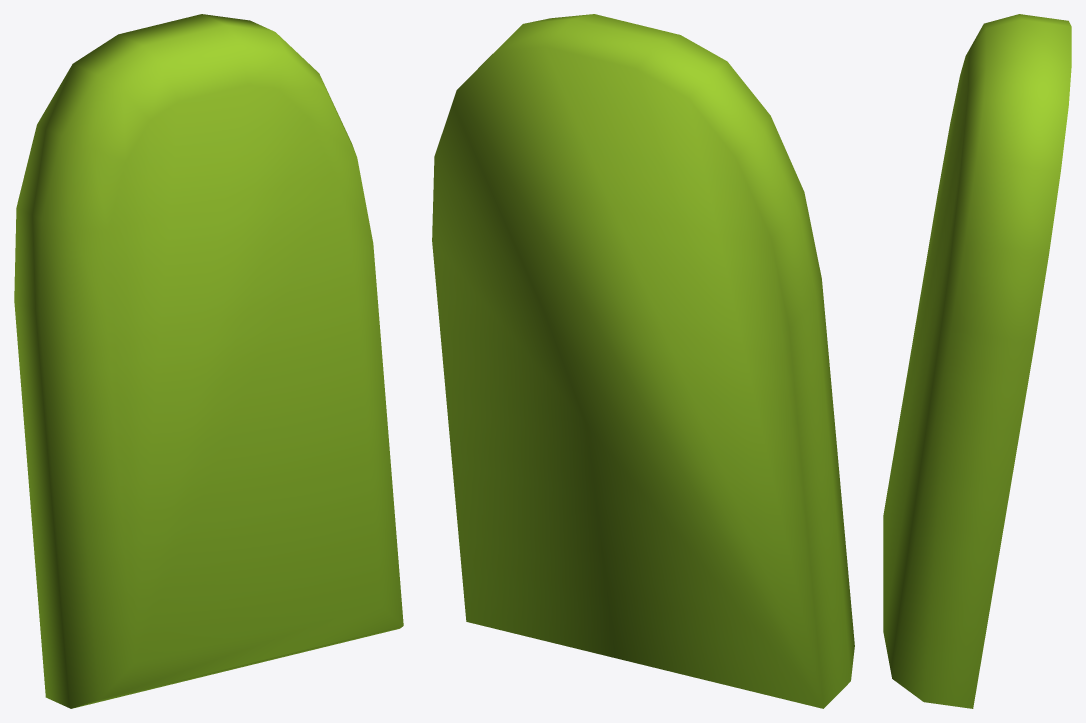
Rendered from Grass1.fbx.
3 views of the same model, side by side, from view 1: azimuth 30°, elevation 25°; view 2: azimuth 150°, elevation 25°; view 3: azimuth 270°, elevation 25° (orthographic). The views are drawn at different scales.
Parts seen in each view (by area): view 1: Plane.003; view 2: Plane.003; view 3: Plane.003.
Boxes of the visible parts, x1,y1,x2,y2 form: Plane.003: [14, 14, 403, 708]; Plane.003: [432, 14, 854, 708]; Plane.003: [883, 14, 1071, 708].
Size of the model in its own units: 0.5681 by 0.9954 by 0.2876.
